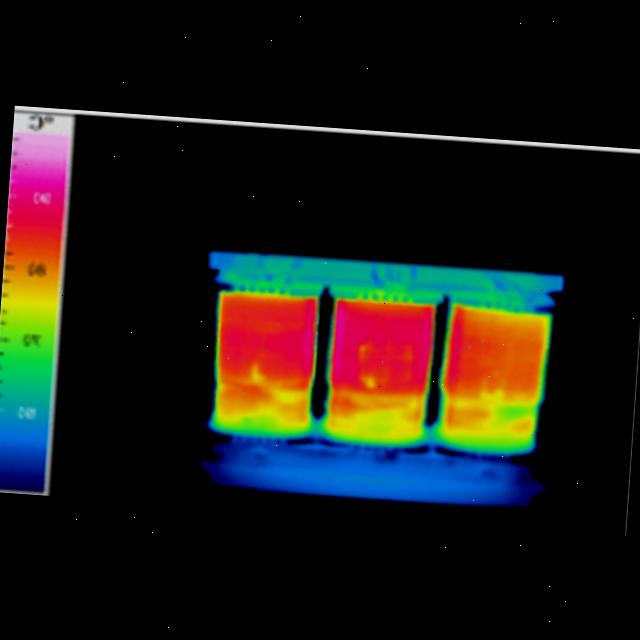loose_joint_yellow: (397, 291, 403, 302), (387, 290, 393, 301), (407, 292, 413, 302), (378, 290, 384, 300), (367, 289, 373, 299), (357, 289, 363, 299), (284, 285, 290, 295), (274, 284, 280, 293), (254, 283, 260, 291), (264, 284, 269, 293), (244, 282, 249, 291)
